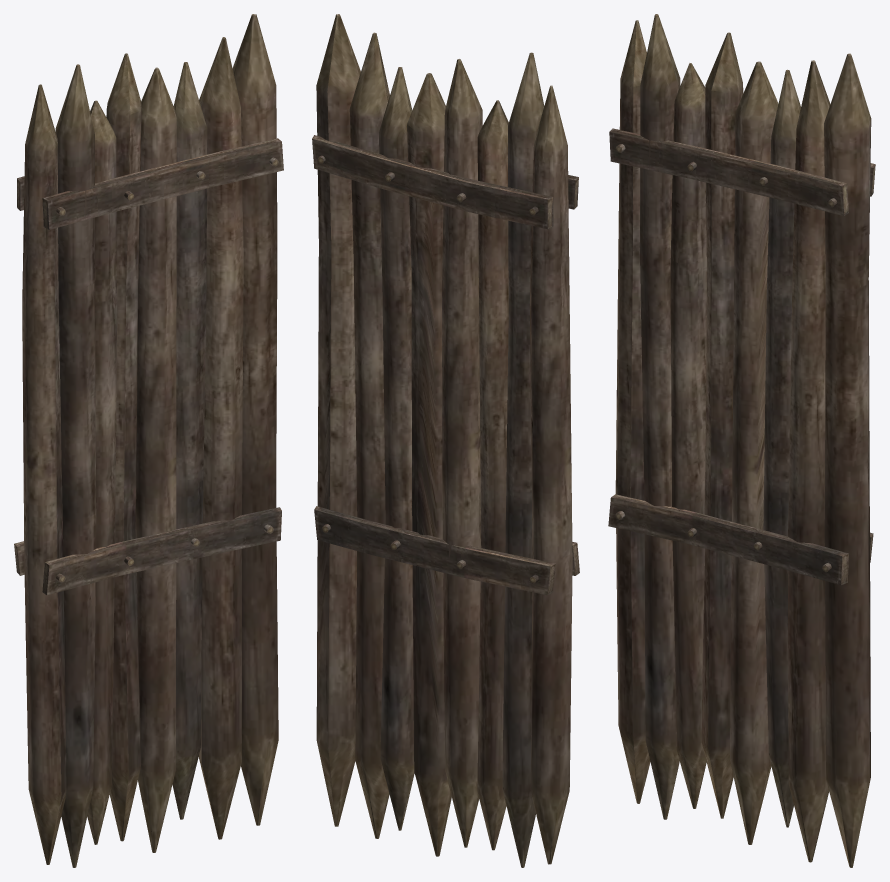
Rendered from jav_struc_def_log_t1_wall_half-transformed.glb.
The picture shows the model from 3 angles, left to right: view 1: azimuth 30°, elevation 25°; view 2: azimuth 150°, elevation 25°; view 3: azimuth 330°, elevation 25°; orthographic projection.
Parts seen in each view (by area): view 1: default; view 2: default; view 3: default.
Boxes of the visible parts, <box> form: default: <box>14,14,283,867</box>; default: <box>312,14,579,867</box>; default: <box>608,14,875,867</box>.
Size of the model in its own units: 2.06 by 6.41 by 0.5808.
1 material, 1 textured.
